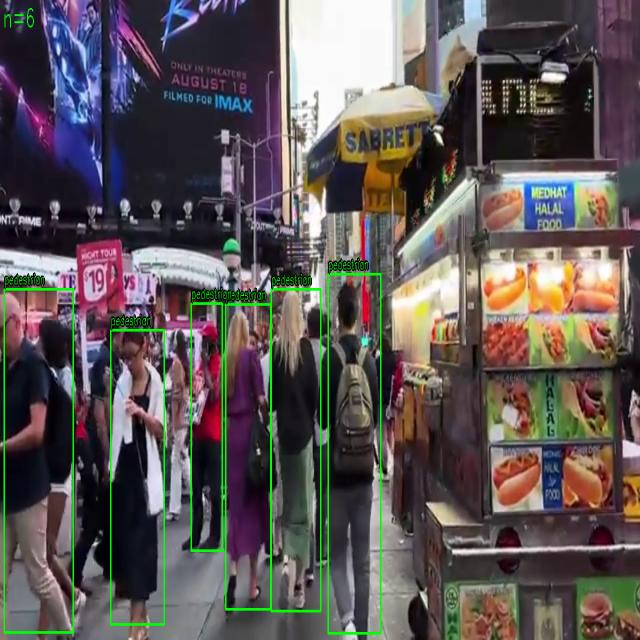with scooter: (4, 289, 74, 633), (328, 274, 381, 634), (271, 289, 321, 611), (110, 330, 164, 625), (225, 304, 271, 610), (191, 303, 223, 551)
